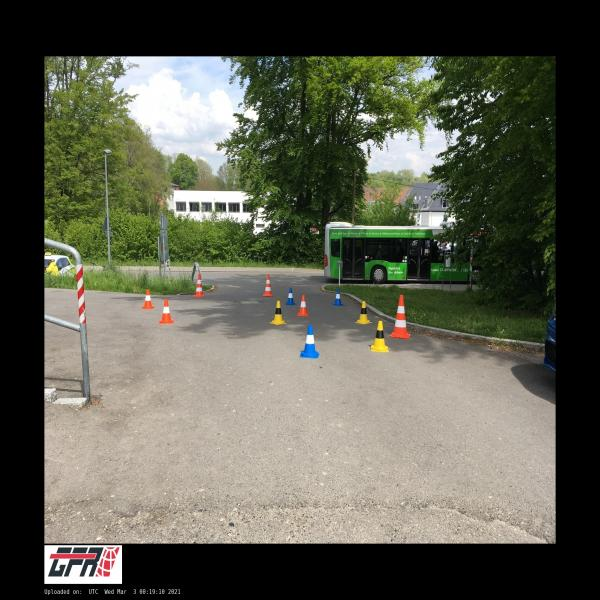blue_cone: (300, 325, 320, 358), (332, 289, 342, 306), (286, 288, 296, 305)
large_orange_cone: (390, 295, 410, 339), (194, 274, 204, 298), (263, 274, 273, 296)
orange_cone: (159, 299, 174, 324), (297, 295, 309, 316), (142, 289, 154, 309)
yellow_cone: (370, 320, 388, 352), (269, 300, 287, 325), (355, 301, 372, 324)
